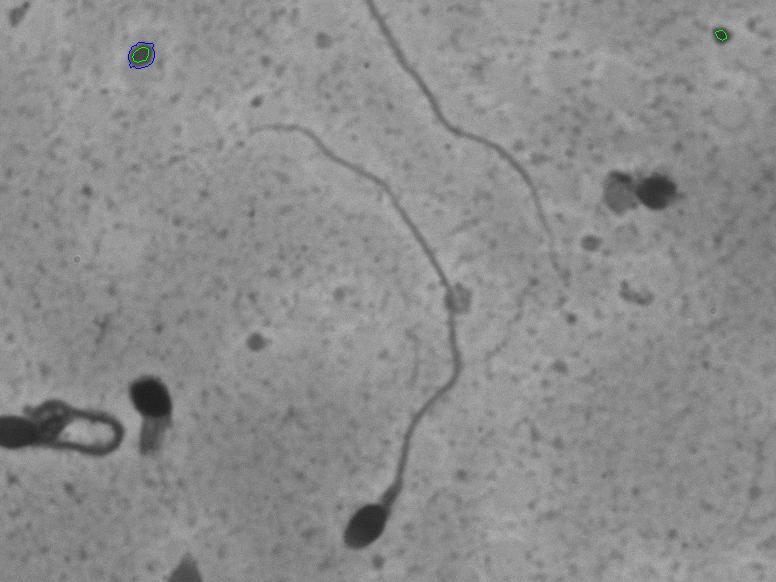Abnormal: (116, 339, 197, 472)
Normal: (240, 103, 472, 563)
